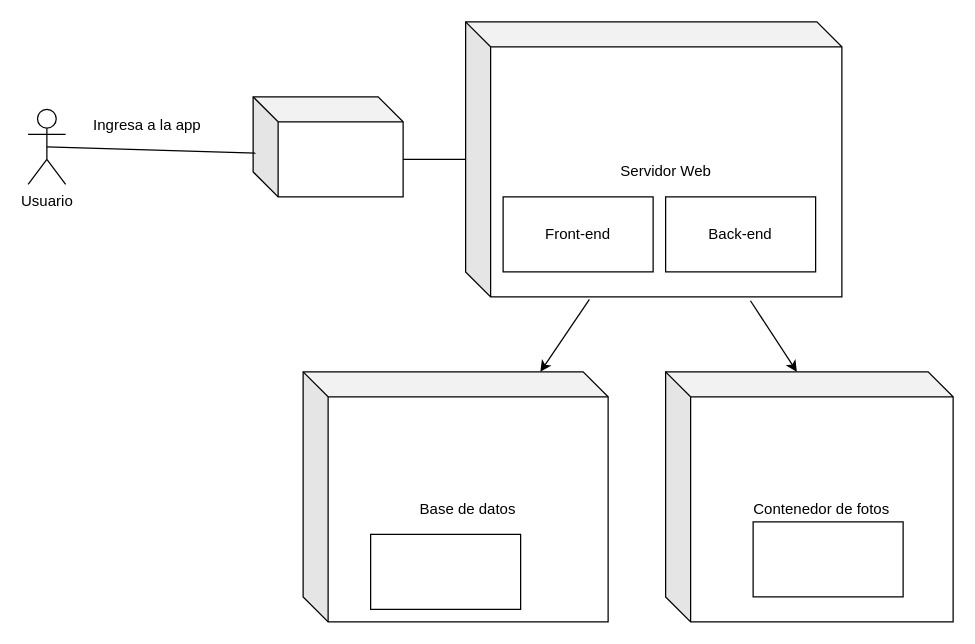
Image size: 975x644. Some labels were removed from this diagram. The centre of each missing label's shape, as x and y in pixels:
"SQLite" belongs at (x=445, y=571).
"Supabase" belongs at (x=827, y=559).
"Web Browser" belongs at (x=327, y=146).
